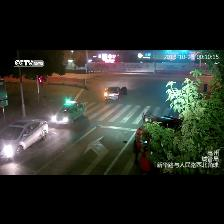person: (141, 148, 150, 174), (135, 137, 141, 164)
